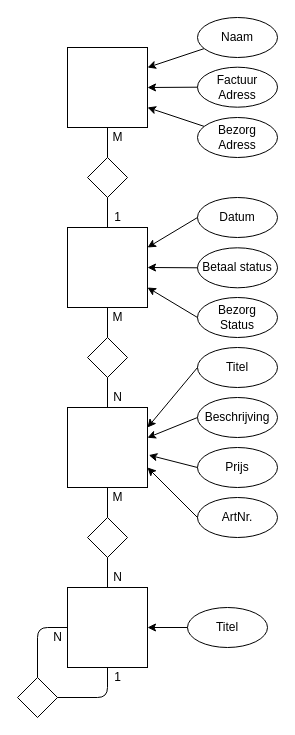
Some shapes in this 295 by 735 pixel diagram are drawn without their labels. The shapes that lost their labels are listed below. From the top down, each one's centre as x and y in pixels, then its label:
At point (107, 87): "Klant".
At point (107, 267): "Order".
At point (107, 447): "Product".
At point (107, 627): "Categorie".
